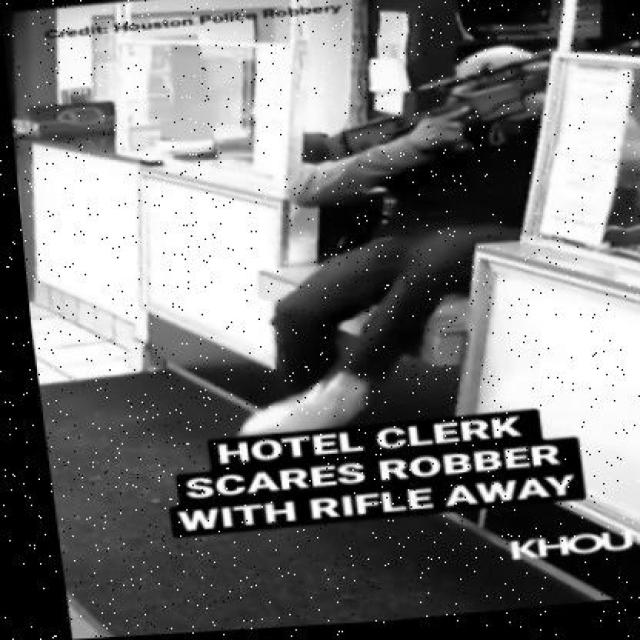weapon: (298, 42, 610, 182)
